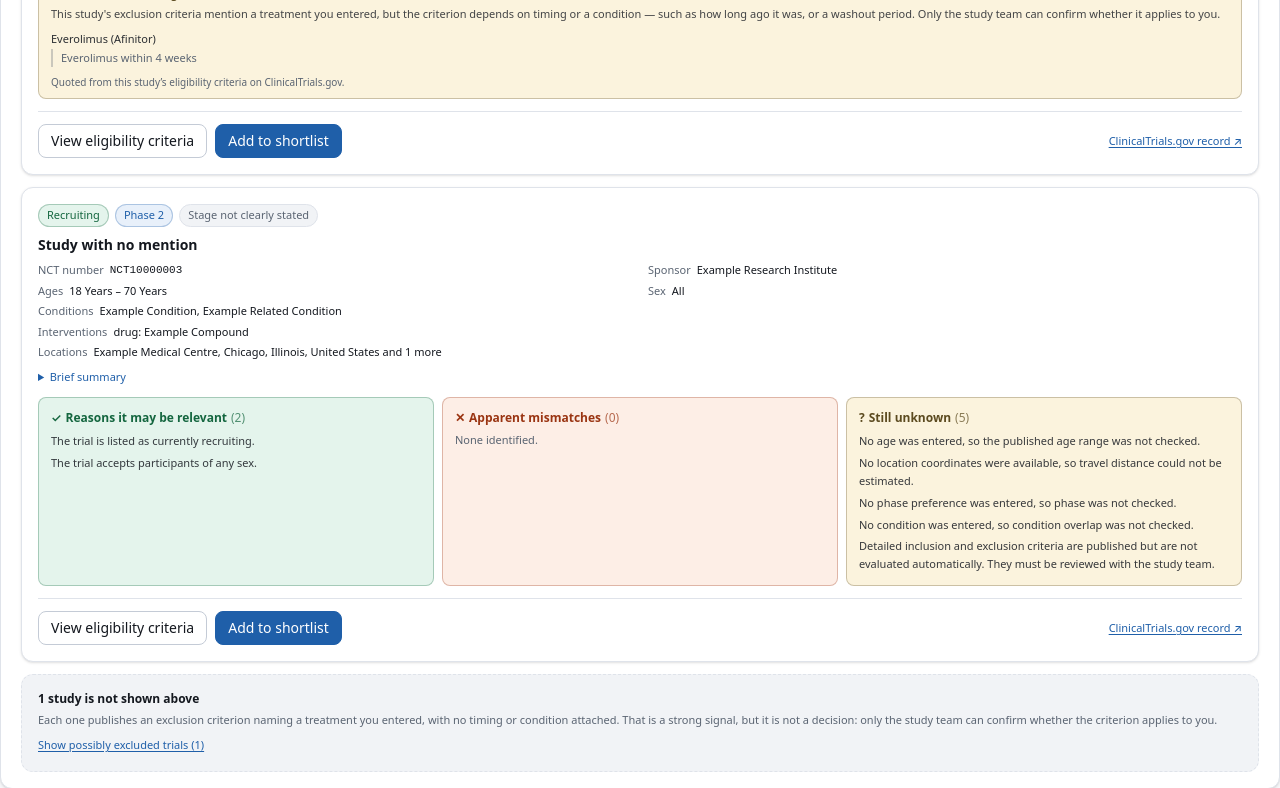
Scenario: disclosing what was withheld › keeps the withheld study out of the list until asked
(page scrolled)
Expected: the heading "Study with no mention" is shown, [38,235,198,254]
Click the button "Show possibly excluded trials (1)" at (121, 745), box [38,737,204,754]
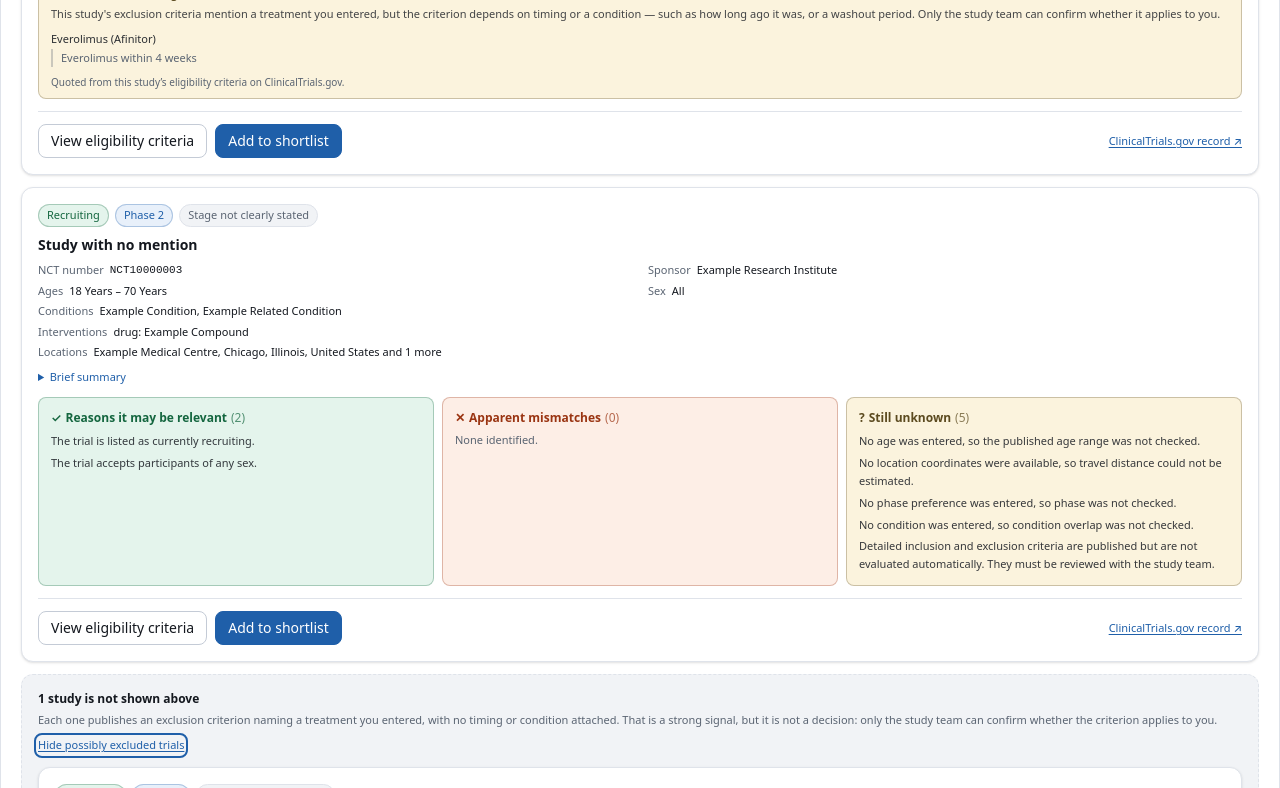
Expected: the button "Hide possibly excluded trials" is shown, [38,737,184,754]
